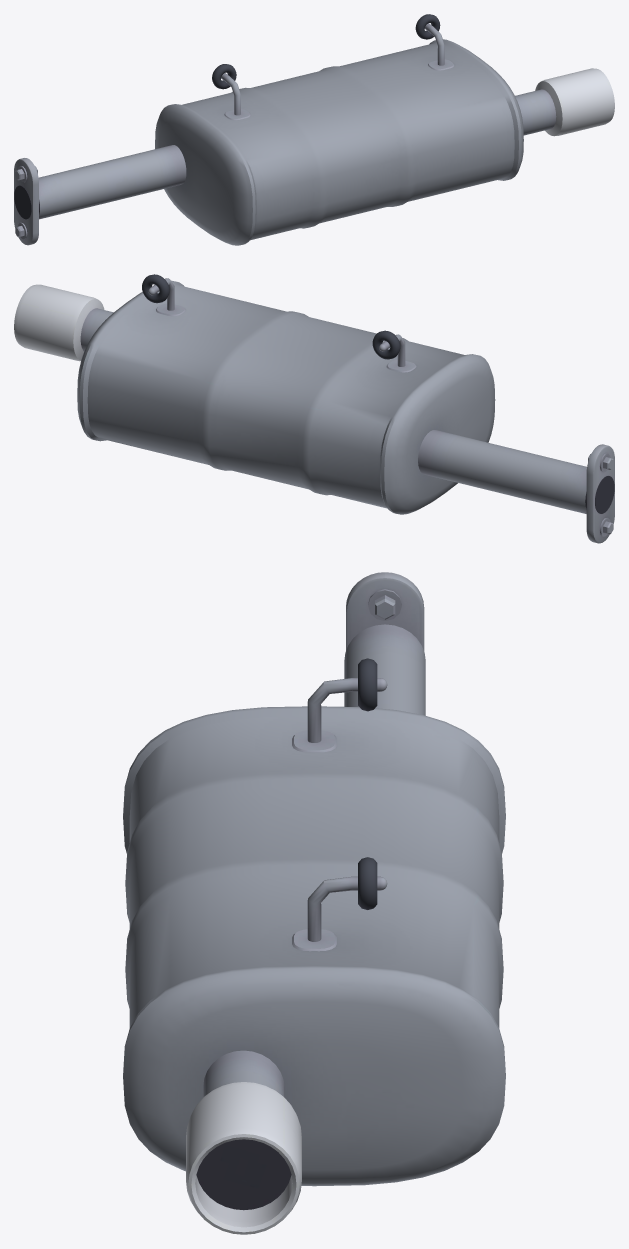
File: muffler.glb
The picture shows the model from 3 angles, top to bottom: view 1: azimuth 30°, elevation 25°; view 2: azimuth 150°, elevation 25°; view 3: azimuth 270°, elevation 25°; orthographic projection. The views are drawn at different scales.
Visible parts, largest first — view 1: exhaust-muffler_body; view 2: exhaust-muffler_body; view 3: exhaust-muffler_body.
Part boxes in pixels (left/top/right/bottom): exhaust-muffler_body: left=14, top=14, right=614, bottom=245; exhaust-muffler_body: left=14, top=274, right=614, bottom=543; exhaust-muffler_body: left=123, top=572, right=505, bottom=1234.
Size of the model in its own units: 0.8088 by 0.2076 by 0.2443.
1 material, 1 textured.
